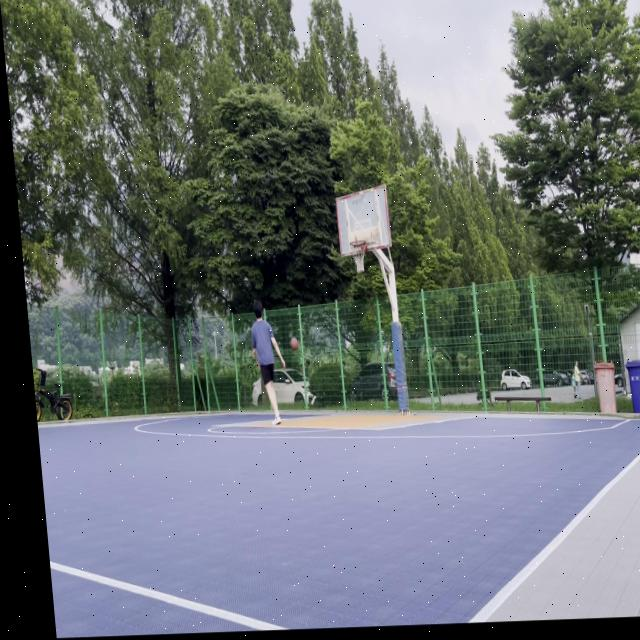basketball: (290, 337, 299, 352)
hoop: (350, 240, 369, 274)
